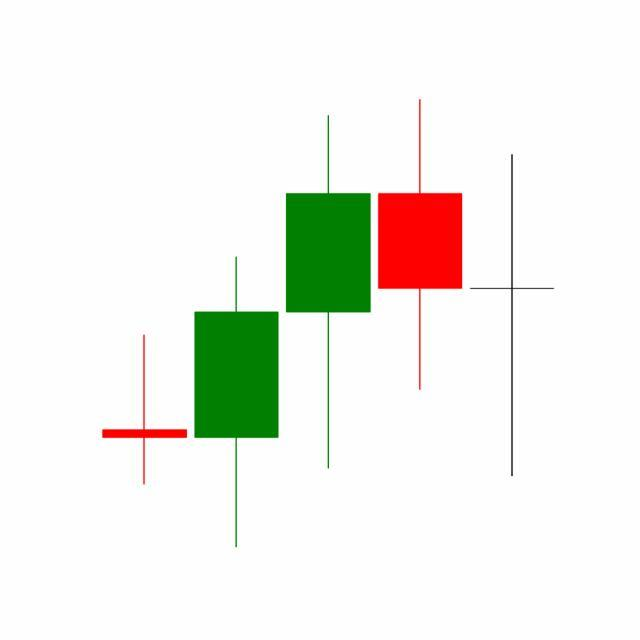Spinning Top: (466, 152, 559, 482)
